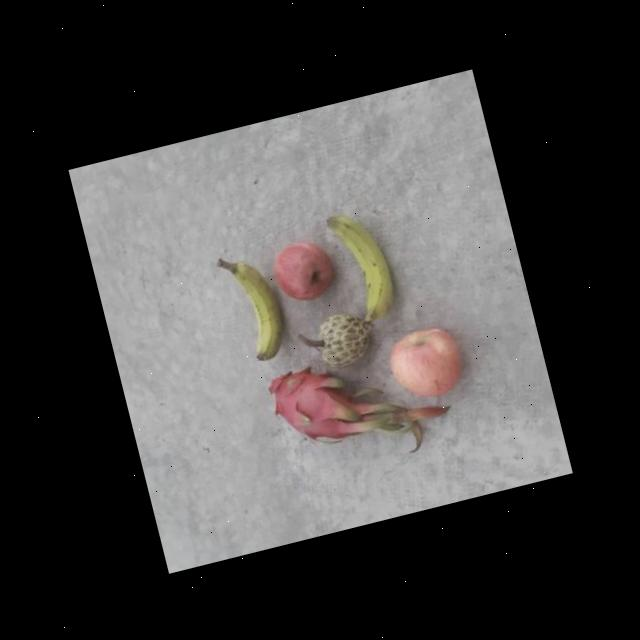Sakya fruit: (312, 307, 375, 373)
apple: (378, 320, 469, 407), (266, 228, 343, 308)
banana: (318, 202, 403, 332), (220, 244, 290, 365)
pitaya: (264, 351, 370, 459)
